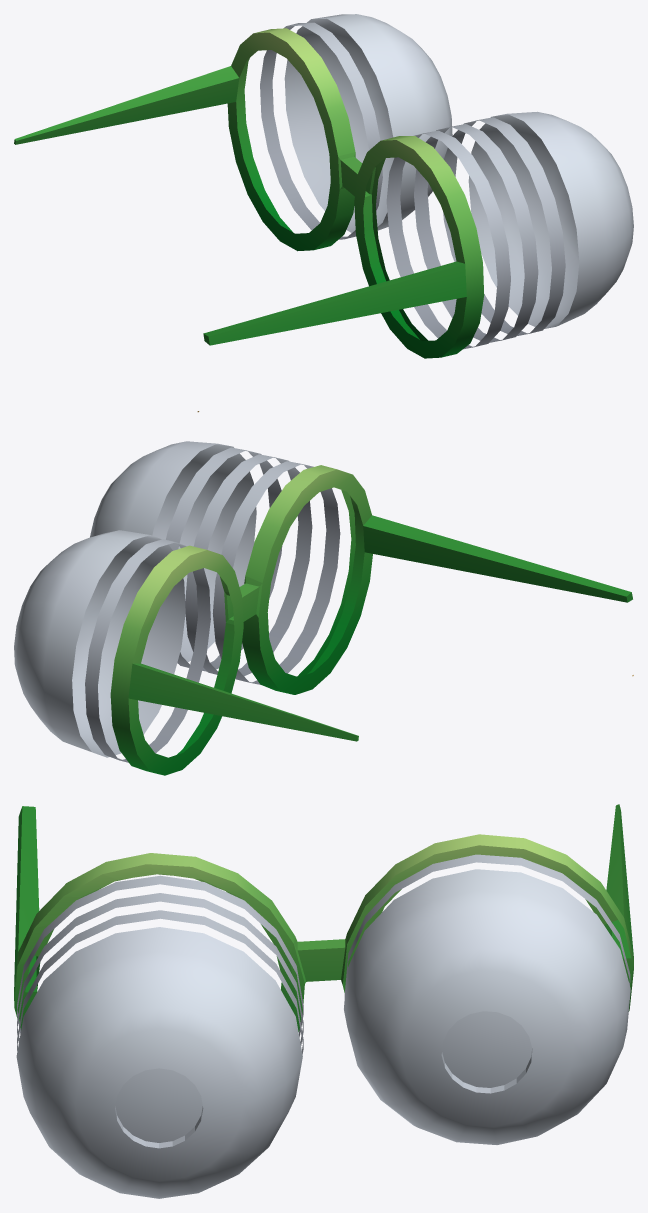
The model's file is Googly.fbx.
3 renders of one model, top to bottom at view 1: azimuth 30°, elevation 25°; view 2: azimuth 150°, elevation 25°; view 3: azimuth 270°, elevation 25°, orthographic. The views are drawn at different scales.
Parts seen in each view (by area): view 1: Googly; view 2: Googly; view 3: Googly.
Part boxes in pixels (left/top/right/bottom): Googly: left=14, top=14, right=633, bottom=412; Googly: left=14, top=441, right=633, bottom=775; Googly: left=14, top=804, right=633, bottom=1198.
Size of the model in its own units: 237 by 108 by 215.
1 material, 1 textured.
